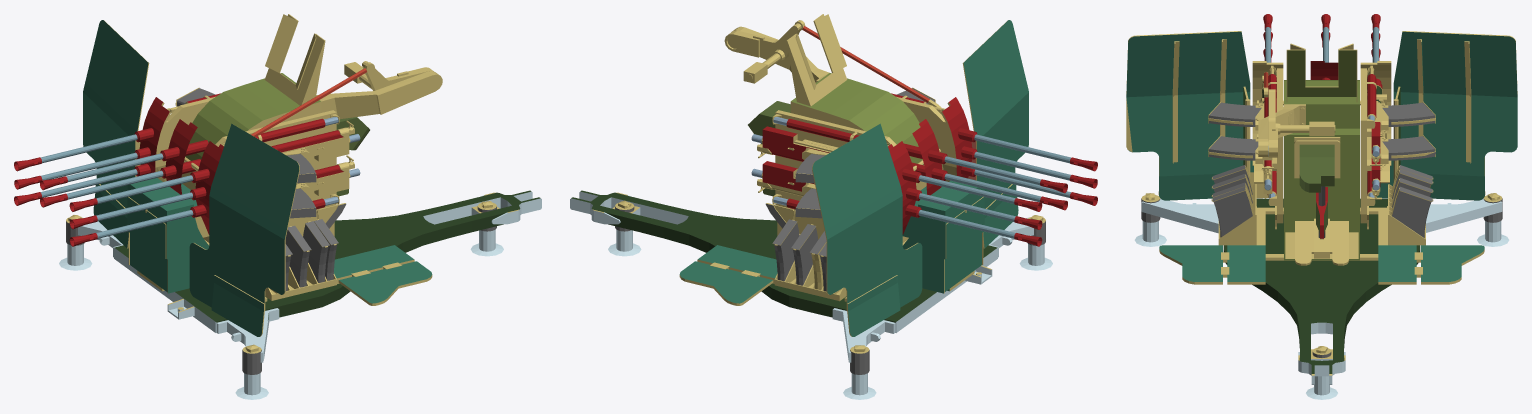
Rendered from Flack38-4.fbx.
3 renders of one model, left to right at view 1: azimuth 30°, elevation 25°; view 2: azimuth 150°, elevation 25°; view 3: azimuth 270°, elevation 25°, orthographic. The views are drawn at different scales.
Parts seen in each view (by area): view 1: pasted__pasted__pasted__base, attack; view 2: pasted__pasted__pasted__base, attack; view 3: pasted__pasted__pasted__base, attack.
Part boxes in pixels (x1,y1,x2,y2): pasted__pasted__pasted__base: (59, 14, 541, 399); attack: (14, 128, 209, 246); pasted__pasted__pasted__base: (570, 14, 1052, 399); attack: (902, 128, 1097, 246); pasted__pasted__pasted__base: (1126, 31, 1517, 399); attack: (1263, 14, 1381, 82).
Size of the model in its own units: 482 by 252 by 342.
